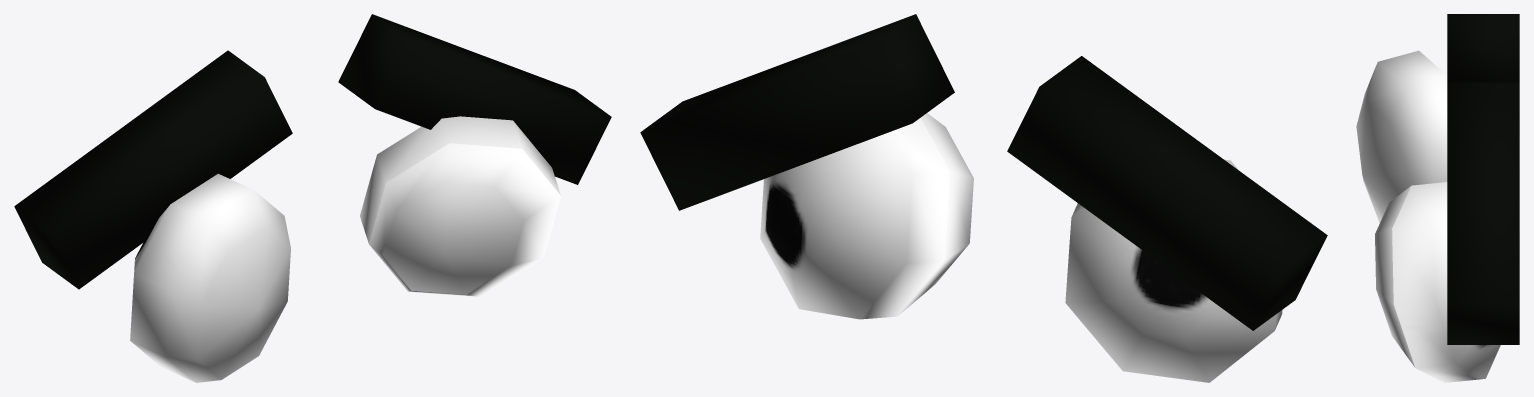
File: Concerned.glb
3 renders of one model, left to right at view 1: azimuth 30°, elevation 25°; view 2: azimuth 150°, elevation 25°; view 3: azimuth 270°, elevation 25°, orthographic. The views are drawn at different scales.
Parts seen in each view (by area): view 1: Concerned; view 2: Concerned; view 3: Concerned.
Boxes of the visible parts, bbox=[...] form: Concerned: bbox=[14, 14, 611, 382]; Concerned: bbox=[640, 14, 1327, 382]; Concerned: bbox=[1356, 14, 1519, 382].
Bounding box in the file's own units: 4.76 × 2.21 × 1.22.
Materials: 2 (2 with a texture image).
